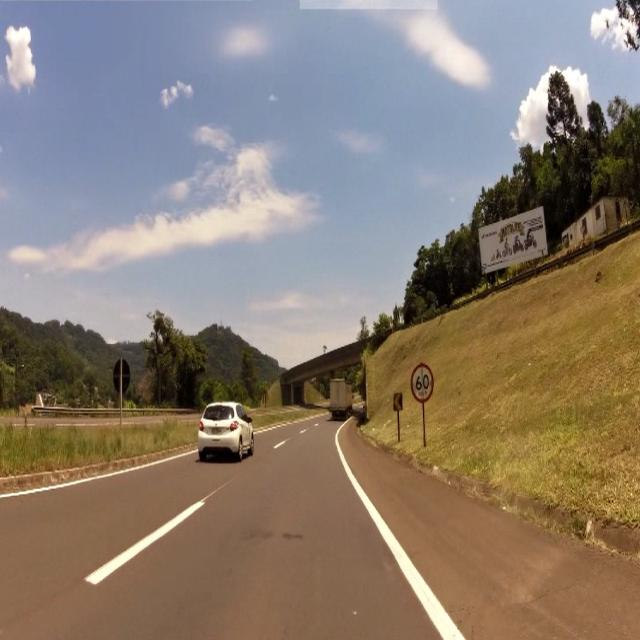Del: (394, 393, 402, 409)
R-19: (409, 367, 436, 400)
